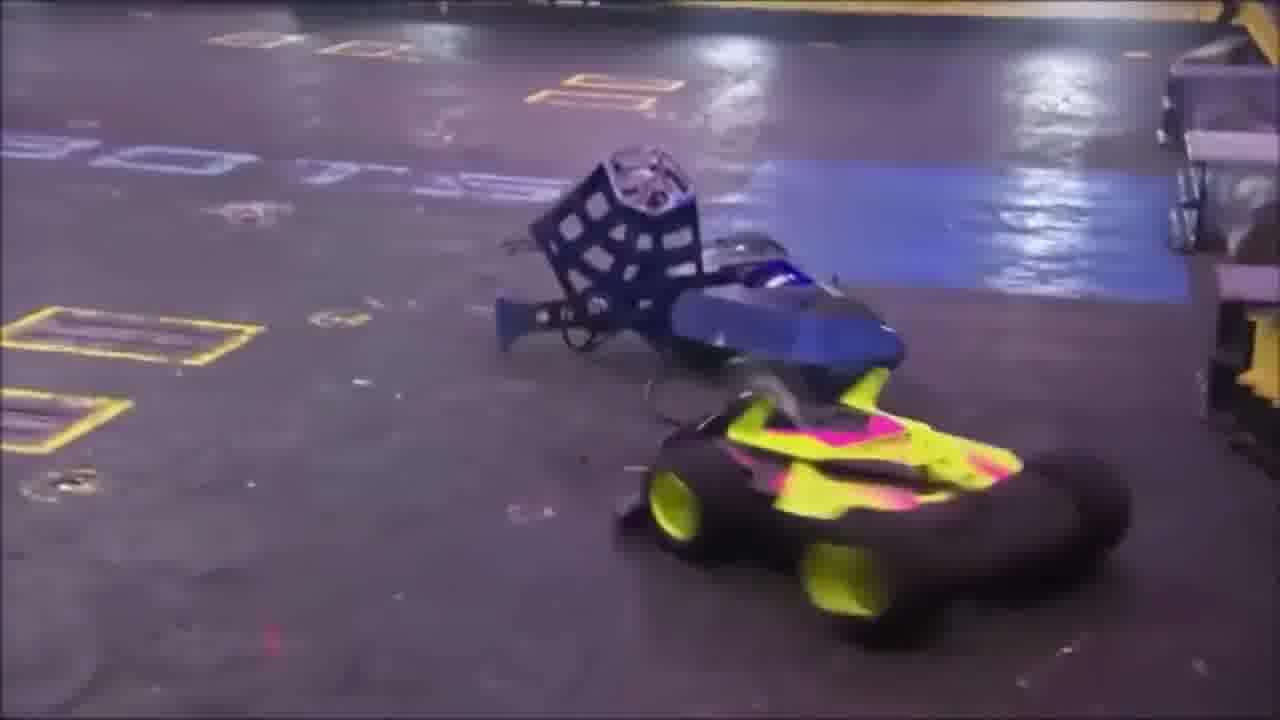combatbot: (618, 367, 1131, 656), (528, 146, 900, 391)
